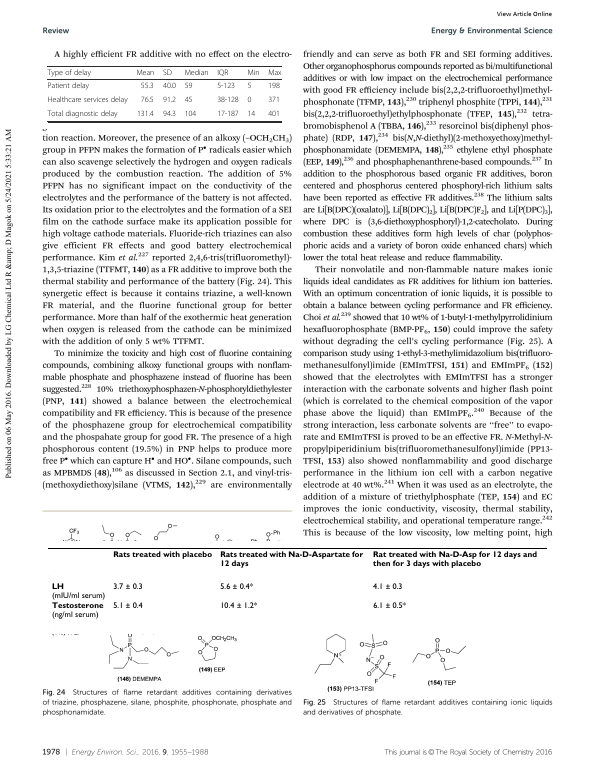borderless: (46, 546, 548, 628), (46, 65, 281, 121)
cell: (372, 551, 537, 569), (219, 551, 364, 569), (50, 582, 106, 601), (50, 602, 104, 620), (112, 551, 213, 560), (47, 96, 129, 106), (47, 110, 119, 120), (47, 82, 90, 92), (47, 69, 92, 78), (219, 601, 258, 611), (219, 582, 254, 592), (372, 601, 406, 611), (112, 582, 143, 592), (372, 582, 403, 592), (112, 601, 143, 611), (216, 96, 240, 106), (216, 110, 240, 120), (184, 69, 209, 78), (216, 82, 236, 92), (136, 110, 155, 120), (135, 69, 155, 78), (140, 82, 155, 92), (162, 82, 177, 92), (140, 96, 155, 106), (162, 96, 177, 106), (162, 110, 177, 120), (267, 82, 281, 92), (267, 96, 281, 106), (267, 110, 281, 120), (267, 69, 282, 78), (184, 110, 197, 120), (246, 69, 260, 78), (216, 69, 229, 78), (246, 110, 256, 120), (162, 69, 173, 78), (184, 82, 193, 92), (184, 96, 193, 106), (246, 82, 252, 92), (246, 96, 252, 106)
